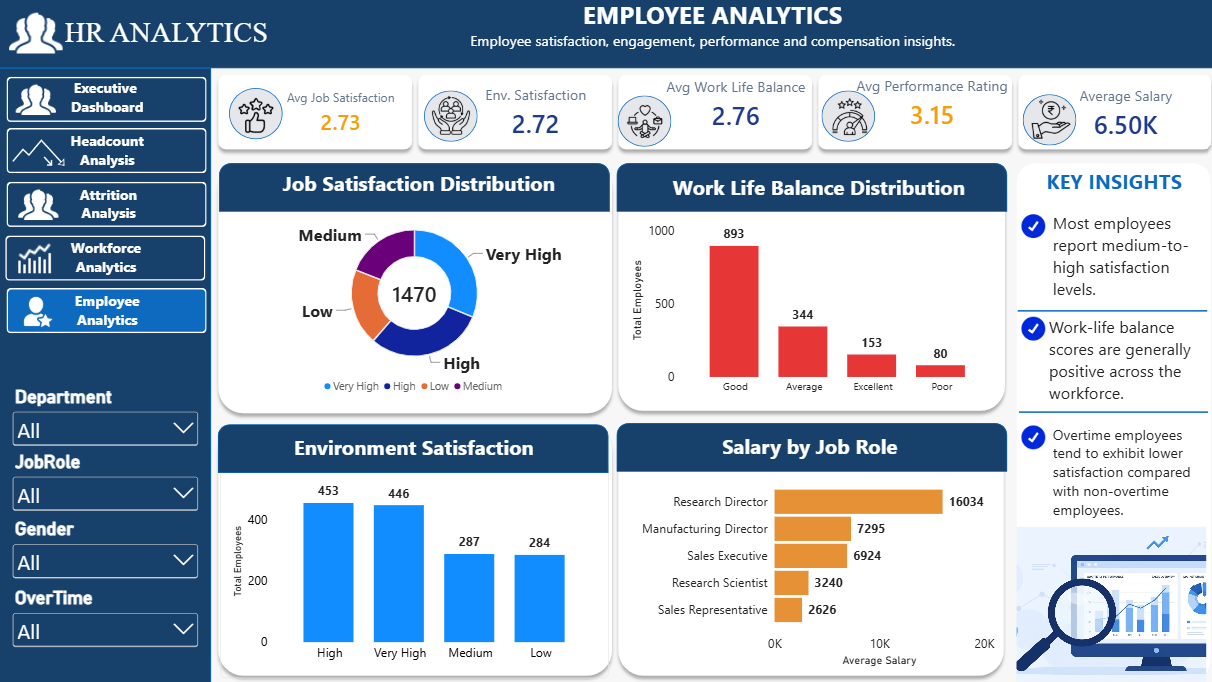

The page's visual inventory and layout, read from the dashboard file:
{"tool":"powerbi","page":{"name":"EMPLOYEE ANALYTICS","canvas":[1600,900],"ordinal":4},"visuals":[{"type":"shape","box":[0,92.2,278.1,807.8],"z":0},{"type":"shape","box":[0,0,1600,92.2],"z":1000},{"type":"shape","box":[278.1,92.2,271.9,115.6],"z":2000},{"type":"shape","box":[540.6,92.2,271.9,115.6],"z":3000},{"type":"shape","box":[803.1,92.2,271.9,115.6],"z":4000},{"type":"shape","box":[1065.6,92.2,271.9,115.6],"z":5000},{"type":"shape","box":[1328.1,92.2,271.9,115.6],"z":6000},{"type":"shape","box":[278.1,207.8,534.4,345.3],"z":7000},{"type":"shape","box":[803.1,207.8,525,342.2],"z":8000},{"type":"shape","box":[9.4,103.1,262.5,59.4],"z":9000},{"type":"shape","box":[278.1,550,534.4,346.9],"z":10000},{"type":"shape","box":[803.1,550,523.4,346.9],"z":11000},{"type":"shape","box":[1334.4,215.6,256.2,676.6],"z":12000},{"type":"cardVisual","fields":{"Data":["_Measures.Avg Job Satisfaction"]},"box":[355,101.7,185,98.3],"z":13000},{"type":"cardVisual","fields":{"Data":["_Measures.Avg Environment Satisfaction"]},"box":[605,101.7,198.3,98.3],"z":14000},{"type":"cardVisual","fields":{"Data":["_Measures.Avg Work Life Balance"]},"box":[858,92,218.3,98.3],"z":15000},{"type":"cardVisual","fields":{"Data":["_Measures.Avg Performance Rating"]},"box":[1108,90,231.7,98.3],"z":16000},{"type":"cardVisual","fields":{"Data":["_Measures.Average Salary"]},"box":[1361.7,103.3,231.2,98.4],"z":17000},{"type":"shape","box":[301.6,118.8,70.3,67.2],"z":18000},{"type":"shape","box":[556.9,121.5,70.3,67.2],"z":19000},{"type":"donutChart","fields":{"Category":["HR Dataset.Satisfaction Category"],"Y":["_Measures.Total Employees"]},"box":[290.8,266.2,509.2,273.8],"z":20000},{"type":"columnChart","fields":{"Category":["HR Dataset.Work Life Category"],"Y":["_Measures.Total Employees"]},"box":[812.3,269.2,509.2,270.8],"z":21000},{"type":"columnChart","fields":{"Category":["HR Dataset.Environment Category"],"Y":["_Measures.Total Employees"]},"box":[290.6,607.8,509.4,284.4],"z":22000},{"type":"barChart","fields":{"Category":["HR Dataset.JobRole"],"Y":["_Measures.Average Salary"]},"box":[812.5,607.8,509.4,284.4],"z":23000},{"type":"shape","box":[289.1,215.6,512.5,64.1],"z":24000},{"type":"shape","box":[809.4,217.2,512.5,64.1],"z":25000},{"type":"shape","box":[287.5,559.4,512.5,64.1],"z":26000},{"type":"shape","box":[809.4,557.8,512.5,64.1],"z":27000},{"type":"slicer","fields":{"Values":["HR Dataset.JobRole"]},"box":[12.5,593.8,253.1,82.8],"z":28000},{"type":"slicer","fields":{"Values":["HR Dataset.Gender"]},"box":[12.5,681.2,253.1,82.8],"z":29000},{"type":"slicer","fields":{"Values":["HR Dataset.OverTime"]},"box":[12.5,771.9,253.1,82.8],"z":30000},{"type":"shape","box":[9.4,240.6,262.5,59.4],"z":31000},{"type":"shape","box":[7.8,310.9,262.5,59.4],"z":32000},{"type":"shape","box":[9.4,379.7,262.5,59.4],"z":33000},{"type":"textbox","box":[10.9,104.7,260.9,53.1],"z":34000},{"type":"textbox","box":[12.5,243.8,260.9,53.1],"z":35000},{"type":"textbox","box":[9.4,314.1,260.9,53.1],"z":36000},{"type":"textbox","box":[10.9,382.8,260.9,53.1],"z":37000},{"type":"textbox","box":[550,0,770.3,92.2],"z":38000},{"type":"textbox","box":[82.8,23.4,271.9,68.8],"z":39000},{"type":"textbox","box":[314.1,225,471.9,45.3],"z":40000},{"type":"textbox","box":[839.1,229.7,471.9,45.3],"z":41000},{"type":"textbox","box":[307.8,570.3,471.9,45.3],"z":42000},{"type":"textbox","box":[831.2,568.8,471.9,45.3],"z":43000},{"type":"textbox","box":[1337.5,221.9,250,45.3],"z":44000},{"type":"textbox","box":[1381.7,280,206.7,123.3],"z":45000},{"type":"textbox","box":[1376.7,416.7,206.7,120],"z":46000},{"type":"textbox","box":[1381.7,558.3,201.7,135],"z":47000},{"type":"shape","box":[1336.7,403.3,248.4,14.1],"z":48000},{"type":"shape","box":[1337.5,535.9,248.4,14.1],"z":49000},{"type":"image","box":[310.9,115.6,51.6,75],"z":50000},{"type":"image","box":[567.7,116.9,51.6,75],"z":51000},{"type":"image","box":[12.5,9.4,70.3,75],"z":52000},{"type":"image","box":[1339.1,282.8,34.4,31.2],"z":53000},{"type":"image","box":[1340,418.3,34.4,31.2],"z":54000},{"type":"image","box":[1339.1,560.9,34.4,31.2],"z":55000},{"type":"image","box":[15.6,245.3,70.3,53.1],"z":56000},{"type":"image","box":[10.9,314.1,70.3,53.1],"z":57000},{"type":"image","box":[12.5,382.8,70.3,53.1],"z":58000},{"type":"image","box":[12.5,107.8,70.3,53.1],"z":59000},{"type":"image","box":[1334.4,693.8,248.4,203.1],"z":60000},{"type":"shape","box":[9.4,170.3,262.5,59.4],"z":61000},{"type":"textbox","box":[10.9,173.4,260.9,53.1],"z":62000},{"type":"image","box":[15.6,175,70.3,53.1],"z":63000},{"type":"slicer","fields":{"Values":["HR Dataset.Department"]},"box":[12.5,507.8,253.1,82.8],"z":64000},{"type":"shape","box":[812,128,70.3,67.2],"z":65000},{"type":"image","box":[822,124,51.6,75],"z":66000},{"type":"shape","box":[1078.9,121.9,70.3,67.2],"z":67000},{"type":"image","box":[1089.7,117.3,51.6,75],"z":68000},{"type":"shape","box":[1342.9,126.7,70.3,67.2],"z":69000},{"type":"image","box":[1353.7,122.1,51.6,75],"z":70000},{"type":"actionButton","box":[8.2,103.3,264.7,58.8],"z":70001},{"type":"actionButton","box":[9.8,172.1,264.7,58.8],"z":70002},{"type":"actionButton","box":[8.2,242.6,264.7,58.8],"z":70003},{"type":"actionButton","box":[6.6,311.5,264.7,58.8],"z":70004}]}

Visuals, with their boxes in screenshot pixels (x1, y1, x2, y2), scaled from the page's 1600x900 canvas onto the 1212x682 screenshot:
shape: 0, 70, 211, 681
shape: 0, 0, 1211, 70
shape: 211, 70, 417, 157
shape: 410, 70, 615, 157
shape: 608, 70, 814, 157
shape: 807, 70, 1013, 157
shape: 1006, 70, 1211, 157
shape: 211, 157, 615, 419
shape: 608, 157, 1006, 417
shape: 7, 78, 206, 123
shape: 211, 417, 615, 680
shape: 608, 417, 1005, 680
shape: 1011, 163, 1205, 676
cardVisual - _Measures.Avg Job Satisfaction: 269, 77, 409, 152
cardVisual - _Measures.Avg Environment Satisfaction: 458, 77, 608, 152
cardVisual - _Measures.Avg Work Life Balance: 650, 70, 815, 144
cardVisual - _Measures.Avg Performance Rating: 839, 68, 1015, 143
cardVisual - _Measures.Average Salary: 1031, 78, 1207, 153
shape: 228, 90, 282, 141
shape: 422, 92, 475, 143
donutChart - HR Dataset.Satisfaction Category x _Measures.Total Employees: 220, 202, 606, 409
columnChart - HR Dataset.Work Life Category x _Measures.Total Employees: 615, 204, 1001, 409
columnChart - HR Dataset.Environment Category x _Measures.Total Employees: 220, 461, 606, 676
barChart - HR Dataset.JobRole x _Measures.Average Salary: 615, 461, 1001, 676
shape: 219, 163, 607, 212
shape: 613, 165, 1001, 213
shape: 218, 424, 606, 472
shape: 613, 423, 1001, 471
slicer - HR Dataset.JobRole: 9, 450, 201, 513
slicer - HR Dataset.Gender: 9, 516, 201, 579
slicer - HR Dataset.OverTime: 9, 585, 201, 648
shape: 7, 182, 206, 227
shape: 6, 236, 205, 281
shape: 7, 288, 206, 333
textbox: 8, 79, 206, 120
textbox: 9, 185, 207, 225
textbox: 7, 238, 205, 278
textbox: 8, 290, 206, 330
textbox: 417, 0, 1000, 70
textbox: 63, 18, 269, 70
textbox: 238, 170, 595, 205
textbox: 636, 174, 993, 208
textbox: 233, 432, 591, 466
textbox: 630, 431, 987, 465
textbox: 1013, 168, 1203, 202
textbox: 1047, 212, 1203, 306
textbox: 1043, 316, 1199, 407
textbox: 1047, 423, 1199, 525
shape: 1013, 306, 1201, 316
shape: 1013, 406, 1201, 417
image: 236, 88, 275, 144
image: 430, 89, 469, 145
image: 9, 7, 63, 64
image: 1014, 214, 1040, 238
image: 1015, 317, 1041, 341
image: 1014, 425, 1040, 449
image: 12, 186, 65, 226
image: 8, 238, 62, 278
image: 9, 290, 63, 330
image: 9, 82, 63, 122
image: 1011, 526, 1199, 680
shape: 7, 129, 206, 174
textbox: 8, 131, 206, 172
image: 12, 133, 65, 173
slicer - HR Dataset.Department: 9, 385, 201, 448
shape: 615, 97, 668, 148
image: 623, 94, 662, 151
shape: 817, 92, 871, 143
image: 825, 89, 865, 146
shape: 1017, 96, 1070, 147
image: 1025, 93, 1065, 149
actionButton: 6, 78, 207, 123
actionButton: 7, 130, 208, 175
actionButton: 6, 184, 207, 228
actionButton: 5, 236, 206, 281
